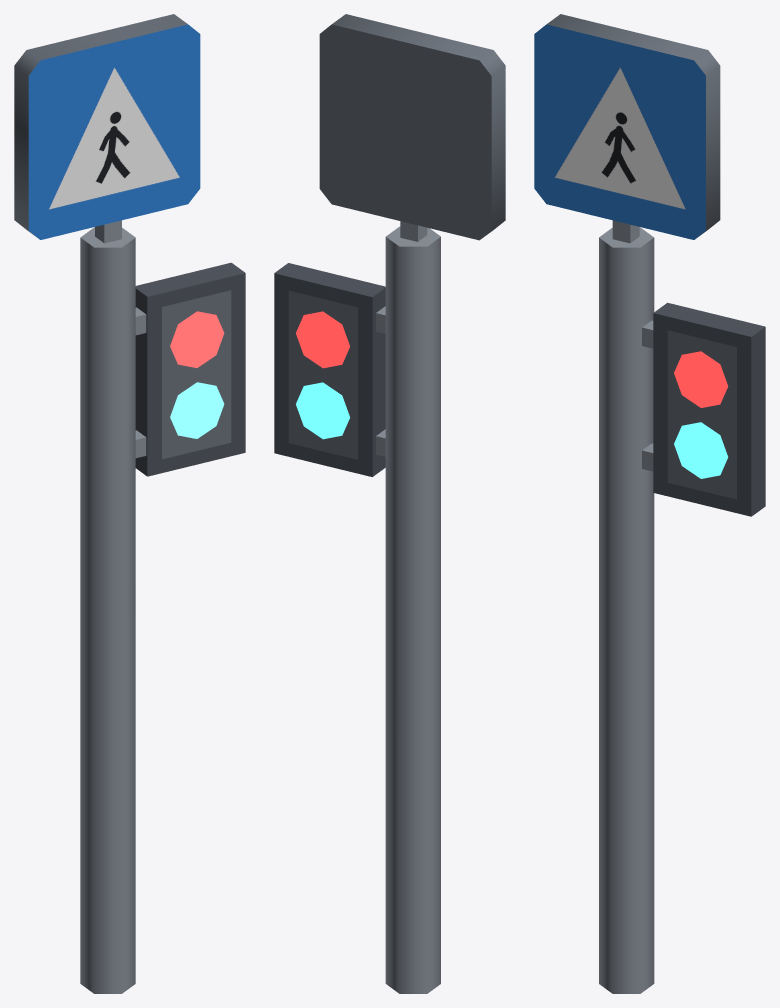
The model's file is traffic_light_003_pacote.glb.
3 views of the same model, side by side, from view 1: azimuth 30°, elevation 25°; view 2: azimuth 150°, elevation 25°; view 3: azimuth 330°, elevation 25° (orthographic).
Visible parts, largest first — view 1: traffic_light_003_pacote, pedestre_vermelho; view 2: traffic_light_003_pacote, pedestre_vermelho; view 3: traffic_light_003_pacote, pedestre_vermelho.
Part boxes in pixels (bbox=[...]): traffic_light_003_pacote: bbox=[14, 14, 245, 993]; pedestre_vermelho: bbox=[170, 311, 224, 367]; traffic_light_003_pacote: bbox=[274, 14, 505, 993]; pedestre_vermelho: bbox=[296, 311, 349, 368]; traffic_light_003_pacote: bbox=[534, 14, 765, 993]; pedestre_vermelho: bbox=[674, 351, 728, 407].
Size of the model in its own units: 0.8847 by 3.68 by 0.195.
4 materials, 2 textured.
